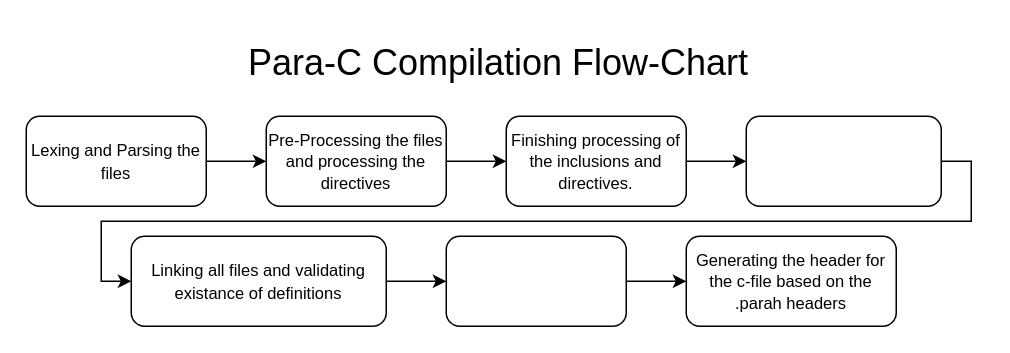
Image size: 1010x353. Some labels were removed from this diagram. Here are the shapes that lost their labels. From the top down, the centre of each, then its label:
At (843,160): "Compiling logically based on the declarations (no definition check)".
At (535,280): "Finishing processing and generating the finished main c-file".
